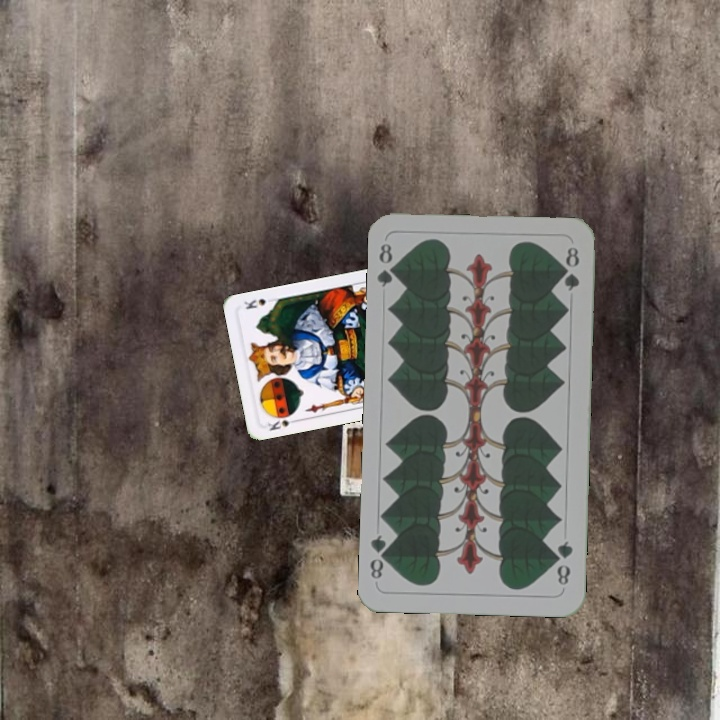G8: (373, 239, 401, 290), (551, 537, 576, 588)
SK: (264, 415, 302, 434)
